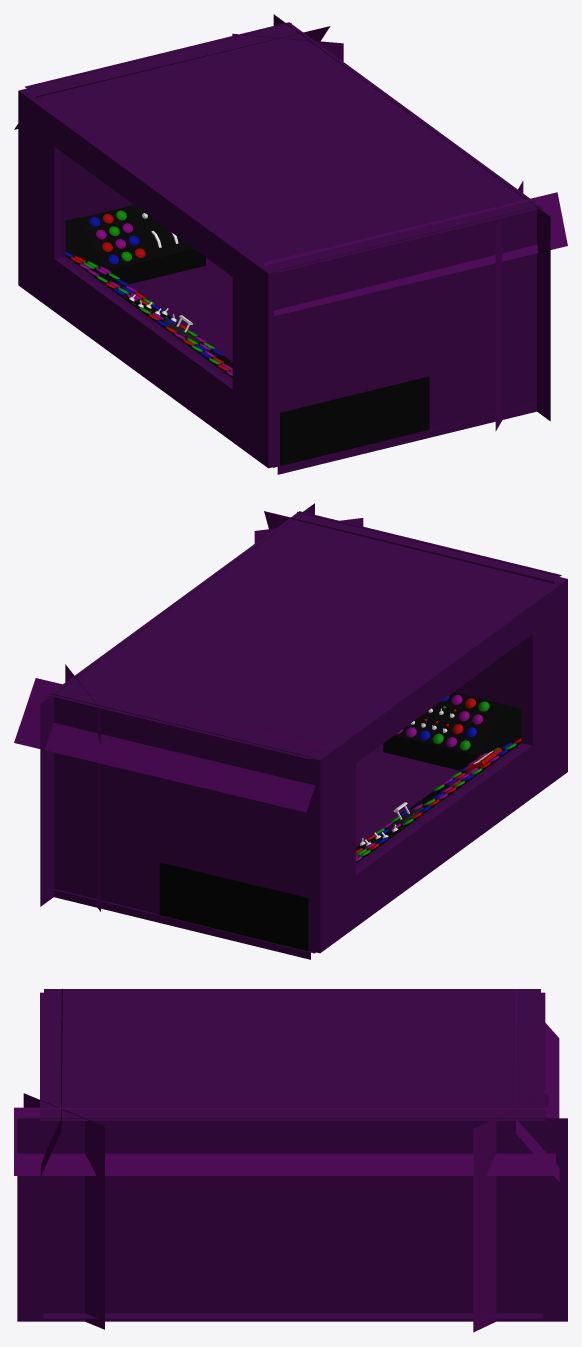
Rendered from control_panel.glb.
3 views of the same model, one above another, from view 1: azimuth 30°, elevation 25°; view 2: azimuth 150°, elevation 25°; view 3: azimuth 270°, elevation 25° (orthographic).
Parts seen in each view (by area): view 1: roof-col, wall_L-col, Wall__front-col, control_panel_base-col, floor-col, shiny_strip_5-col, wall_behind-col, wall_R-col, shiny_strip_1-col, shiny_strip_4-col; view 2: roof-col, wall_R-col, Wall__front-col, control_panel_base-col, shiny_strip_4-col, floor-col, wall_behind-col, wall_L-col, shiny_strip_5-col, shiny_strip_2-col; view 3: wall_behind-col, roof-col, shiny_strip_3-col, shiny_strip_2-col, shiny_strip_1-col, floor-col, shiny_strip_4-col, Wall__front-col, shiny_strip_5-col.
Part boxes in pixels (x1=…): roof-col: x1=24, y1=22, x2=542, y2=272; wall_L-col: x1=277, y1=206, x2=541, y2=474; Wall__front-col: x1=18, y1=88, x2=279, y2=468; control_panel_base-col: x1=65, y1=205, x2=429, y2=465; floor-col: x1=128, y1=258, x2=536, y2=467; shiny_strip_5-col: x1=264, y1=192, x2=567, y2=316; wall_behind-col: x1=273, y1=14, x2=550, y2=421; wall_R-col: x1=27, y1=23, x2=291, y2=220; shiny_strip_1-col: x1=495, y1=181, x2=523, y2=430; shiny_strip_4-col: x1=14, y1=26, x2=330, y2=129; roof-col: x1=48, y1=511, x2=561, y2=759; wall_R-col: x1=49, y1=693, x2=310, y2=959; Wall__front-col: x1=311, y1=577, x2=567, y2=953; control_panel_base-col: x1=159, y1=692, x2=521, y2=951; shiny_strip_4-col: x1=14, y1=678, x2=327, y2=812; floor-col: x1=53, y1=744, x2=458, y2=953; wall_behind-col: x1=40, y1=503, x2=314, y2=906; wall_L-col: x1=297, y1=511, x2=558, y2=708; shiny_strip_5-col: x1=264, y1=511, x2=554, y2=583; shiny_strip_2-col: x1=65, y1=664, x2=100, y2=911; wall_behind-col: x1=17, y1=1118, x2=567, y2=1321; roof-col: x1=40, y1=992, x2=545, y2=1120; shiny_strip_3-col: x1=14, y1=1107, x2=555, y2=1175; shiny_strip_2-col: x1=473, y1=1094, x2=548, y2=1332; shiny_strip_1-col: x1=23, y1=1093, x2=104, y2=1329; floor-col: x1=43, y1=1313, x2=543, y2=1318; shiny_strip_4-col: x1=515, y1=989, x2=559, y2=1182; Wall__front-col: x1=44, y1=989, x2=540, y2=992; shiny_strip_5-col: x1=40, y1=988, x2=62, y2=1176.
Bounding box in the file's own units: 8.52 × 5.61 × 13.72.
